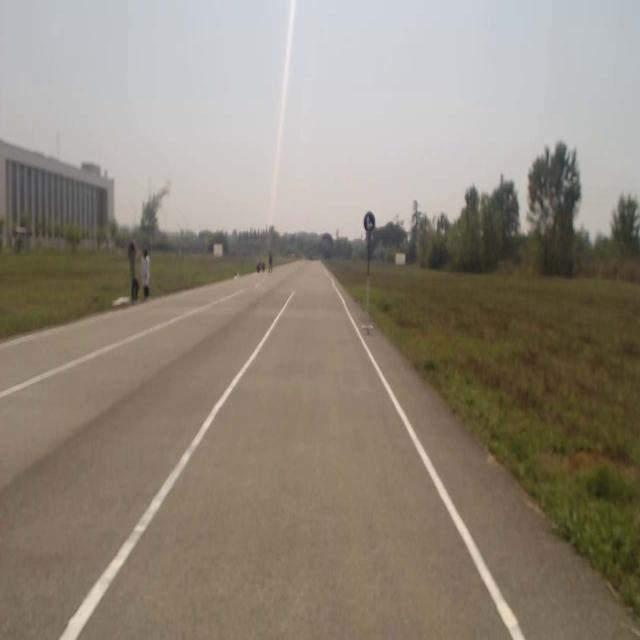ilerisag: (363, 212, 375, 231)
